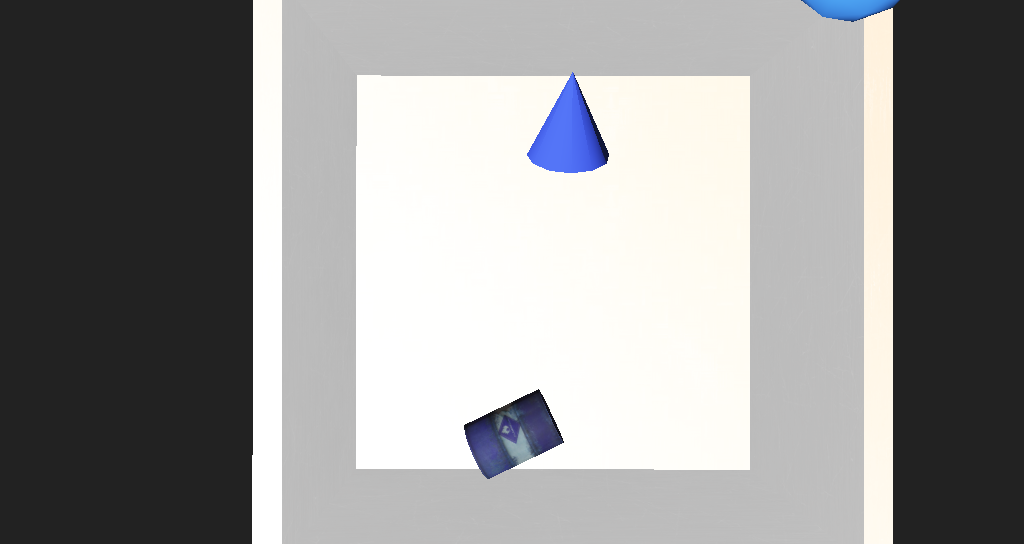cone: (431, 332, 512, 384)
cylinder: (488, 143, 549, 220)
sphere: (650, 88, 738, 150)
